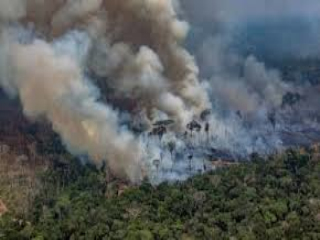smoke: (11, 8, 210, 179)
